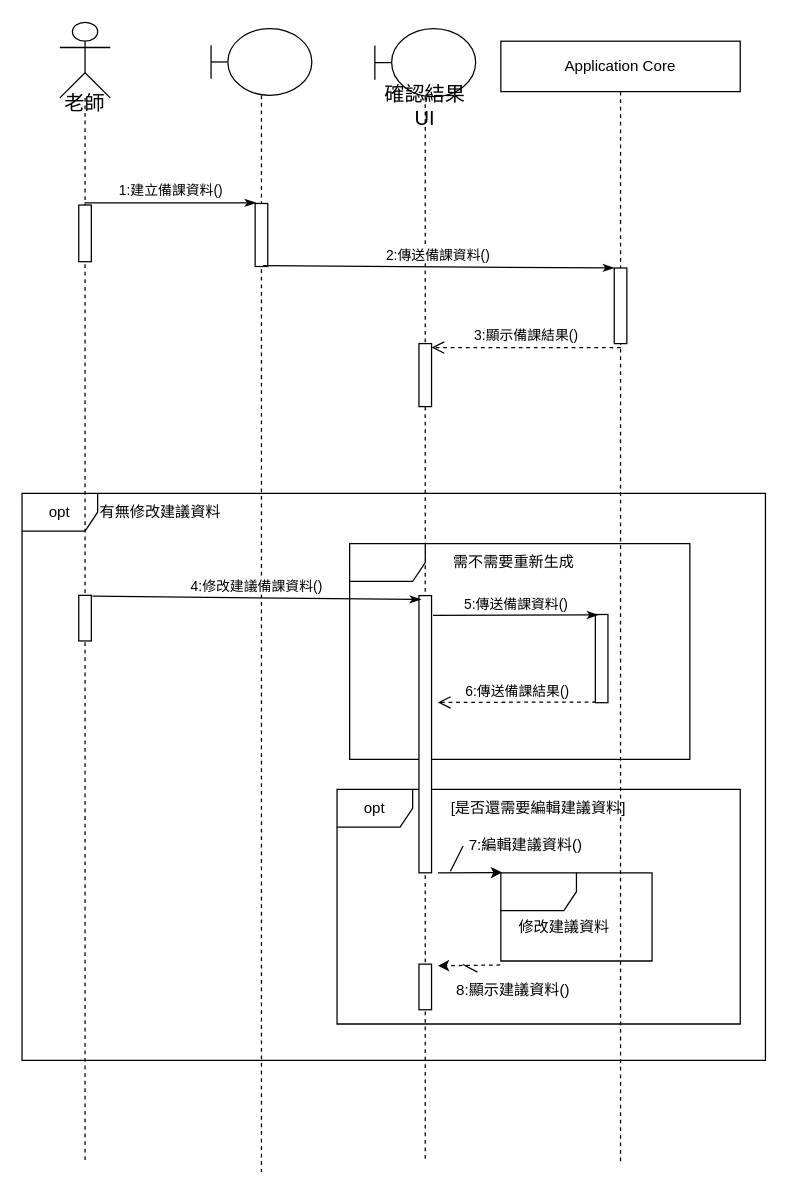
Some shapes in this 788 by 1194 pixel diagram are drawn without their labels. Here are the shapes that lost their labels. From the top down, the box of each, then its label:
(210, 27, 312, 1172): 輸入資料UI
(348, 542, 690, 759): loop
(500, 872, 652, 961): ref
